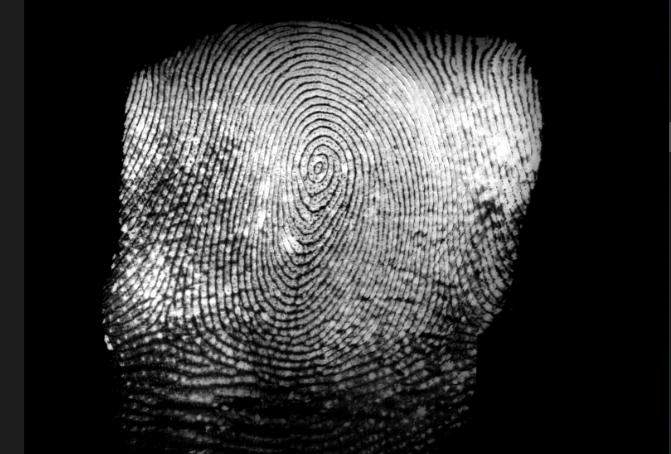nucelo: (305, 152, 329, 185)
verticilo: (417, 321, 442, 345), (151, 315, 177, 338)
